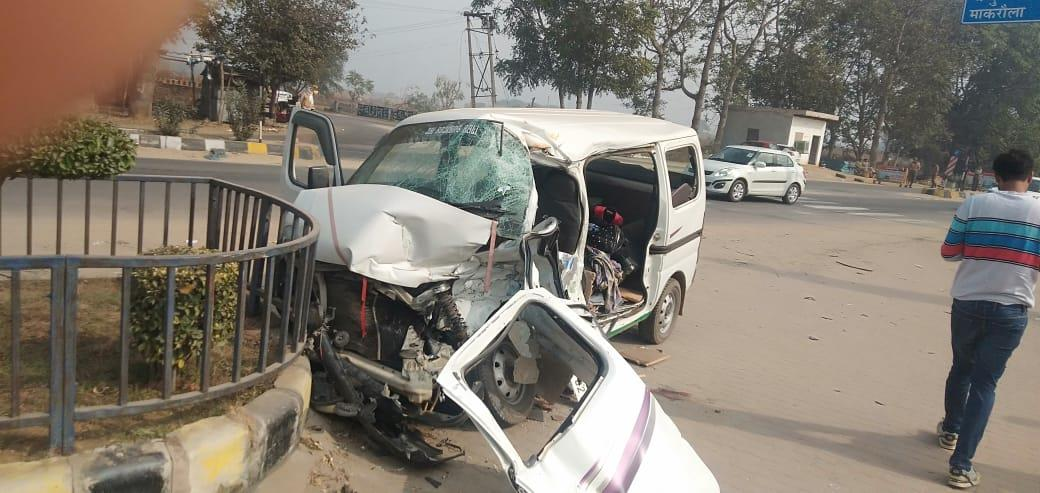accident: (101, 102, 708, 493)
